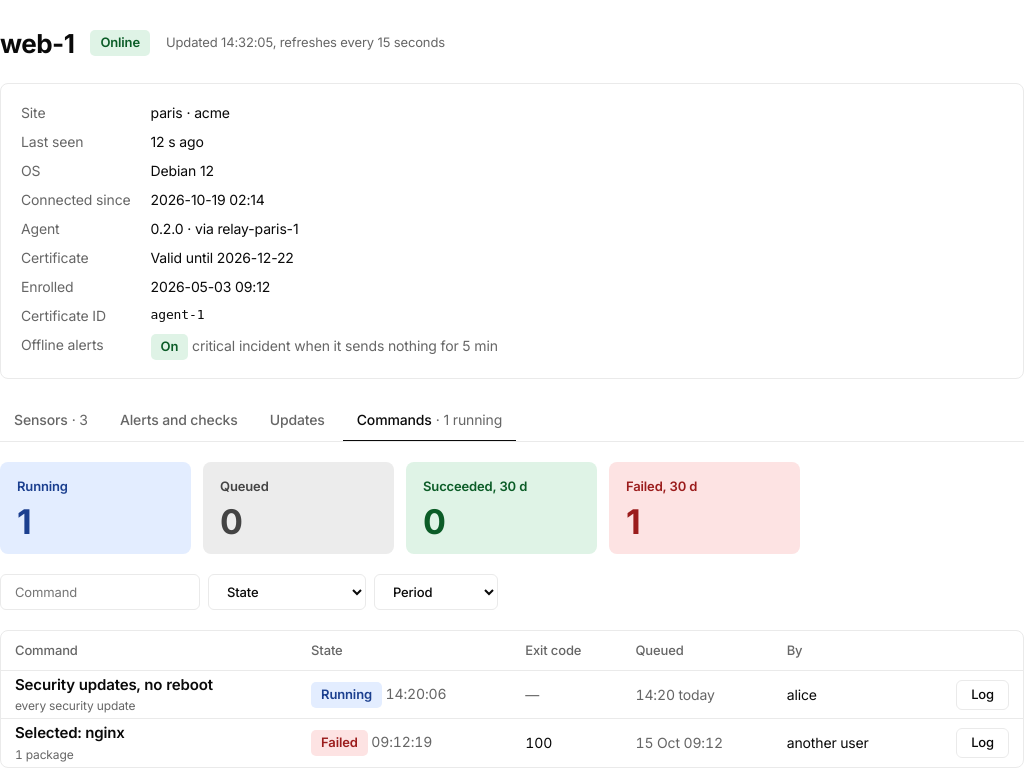
Scenario: ServerPage › lists the commands in their tab, with the output under the row
The image size is (1024, 768).
(page scrolled)
Expected: the element named "Summary, click to filter" reads "Running 1 Queued 0 Succeeded, 30 d 0 Failed, 30 d 1", x1=0 y1=462 x2=800 y2=554
Expected: the row that starts with "Selected: nginx" reads "Selected: nginx 1 package Failed 09:12:19 100 15 Oct 09:12 another user Log", x1=1 y1=718 x2=1023 y2=766
Click the button "Log" in the row of "Selected: nginx" at [983, 743], box x1=956 y1=728 x2=1009 y2=758
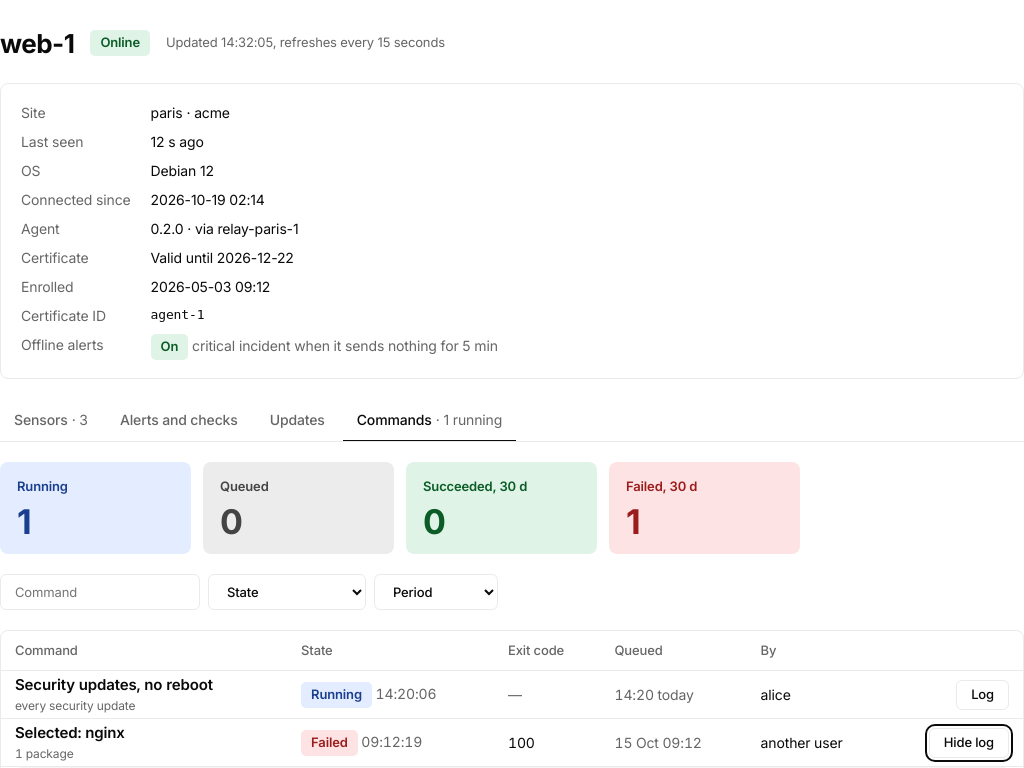
Click the button "Hide log" at [969, 742], box x1=929 y1=728 x2=1009 y2=758
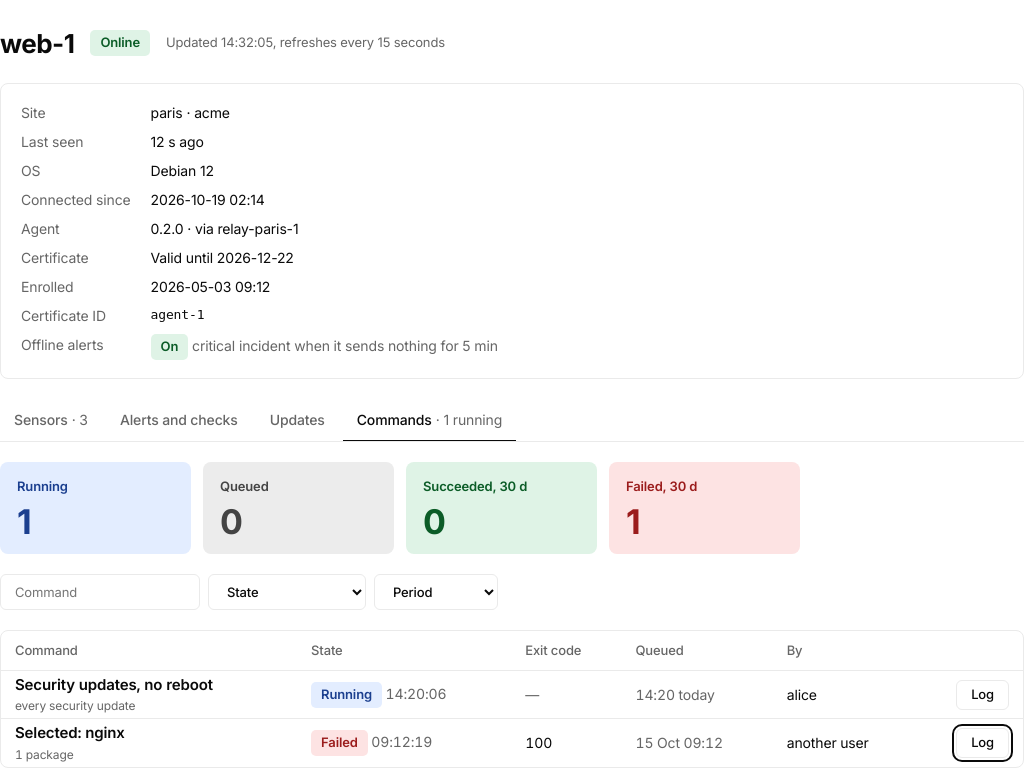
Select "State: Failed" in the dropdown named "State" at [287, 592], box x1=208 y1=574 x2=366 y2=610
(page scrolled)
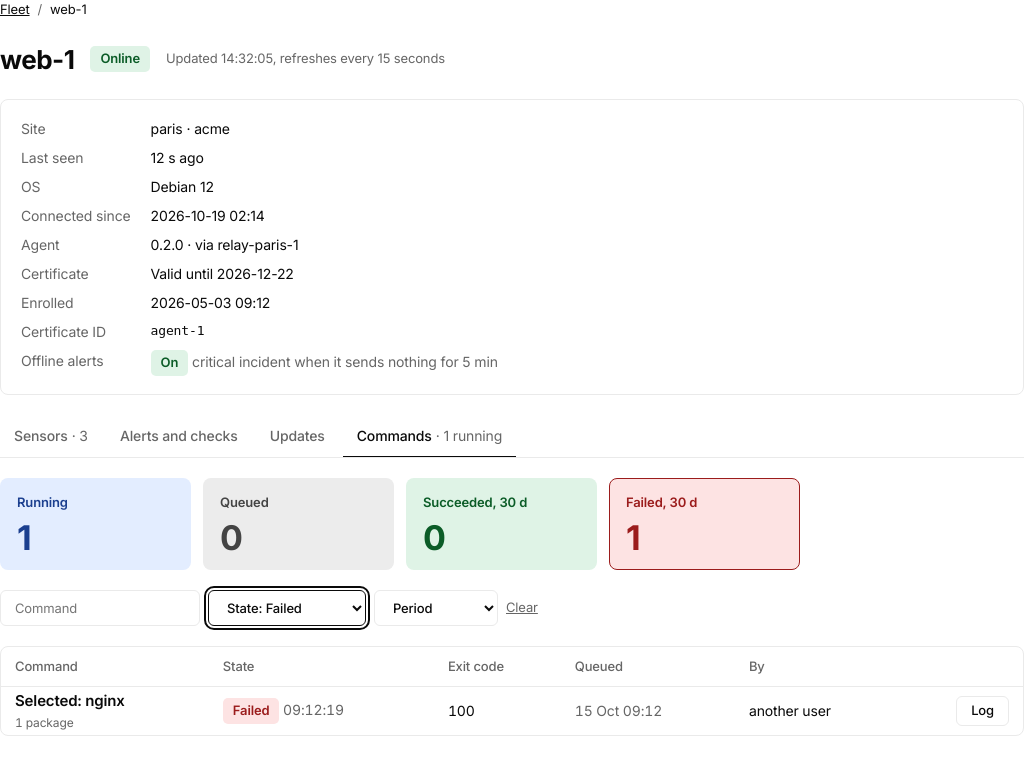
Expected: the number of rows is 2, x1=1 y1=646 x2=1023 y2=686; x1=1 y1=686 x2=1023 y2=734
